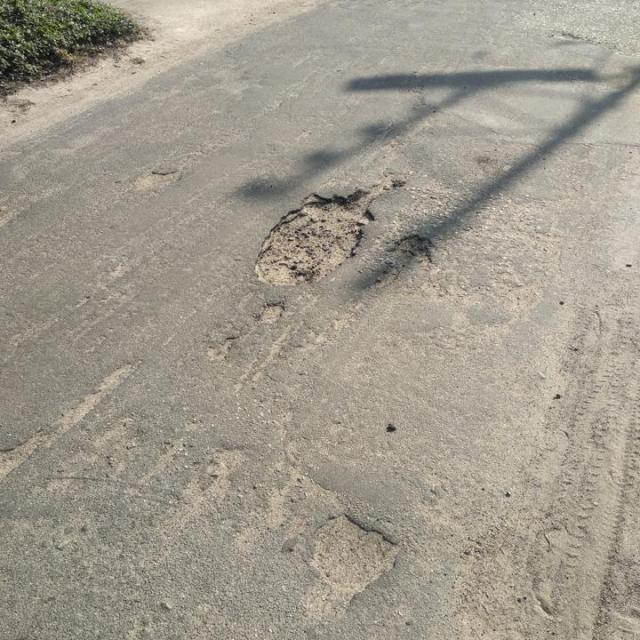pothole: (248, 175, 401, 289), (300, 508, 404, 617), (370, 231, 434, 291), (1, 427, 44, 482), (132, 165, 185, 194)
